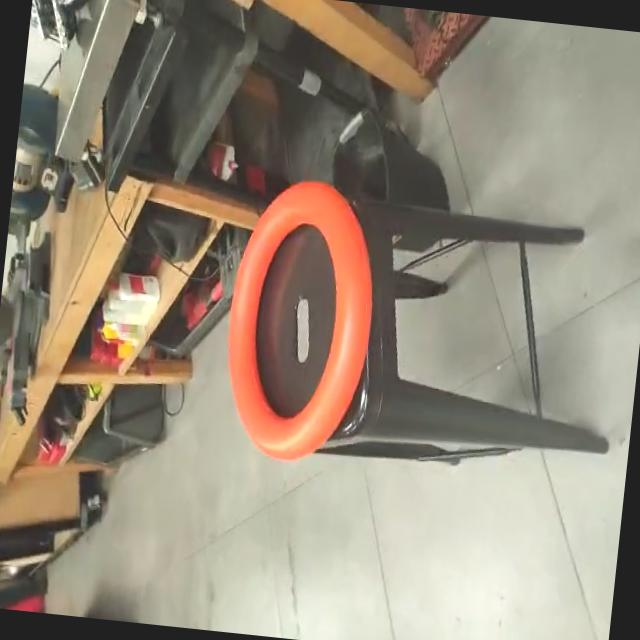note: (210, 174, 393, 476)
